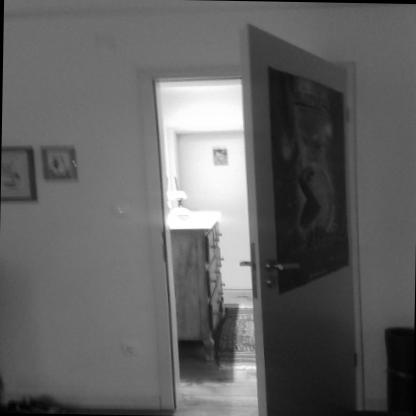semi: (139, 44, 367, 416)
